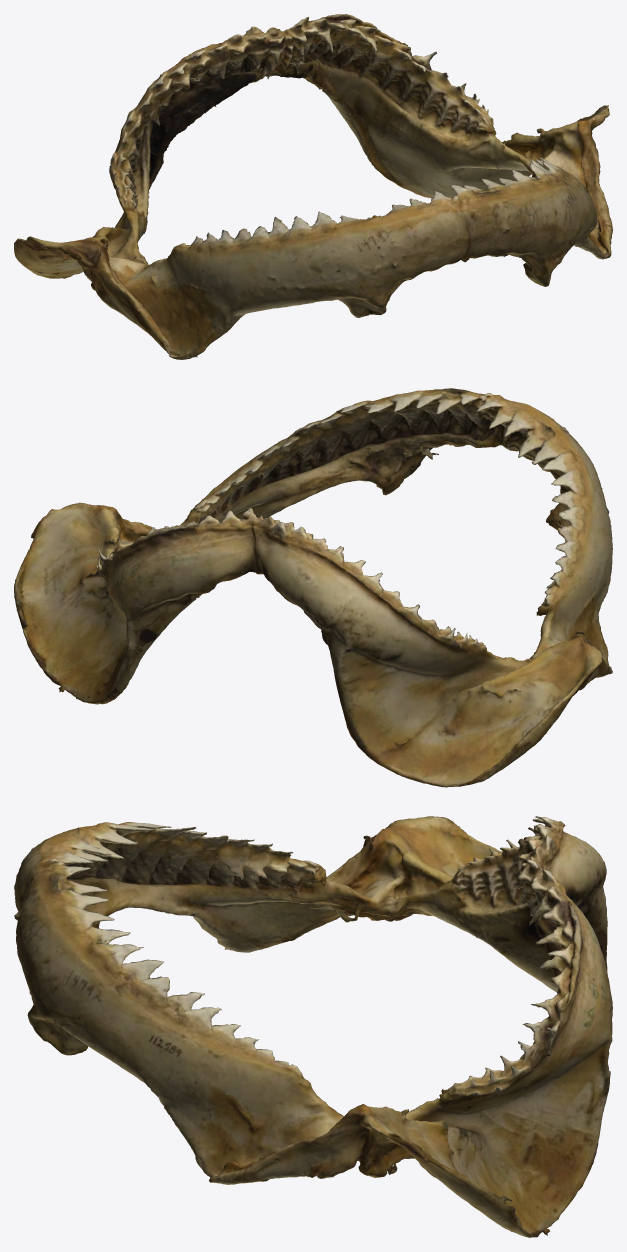
3 views of the same model, one above another, from view 1: azimuth 30°, elevation 25°; view 2: azimuth 150°, elevation 25°; view 3: azimuth 270°, elevation 25° (orthographic). The views are drawn at different scales.
Parts seen in each view (by area): view 1: tamanho; view 2: tamanho; view 3: tamanho.
Part boxes in pixels (left/top/right/bottom): tamanho: left=14, top=14, right=612, bottom=359; tamanho: left=14, top=388, right=612, bottom=787; tamanho: left=14, top=816, right=612, bottom=1237.
Size of the model in its own units: 9921 by 3765 by 7519.
1 material, 1 textured.
